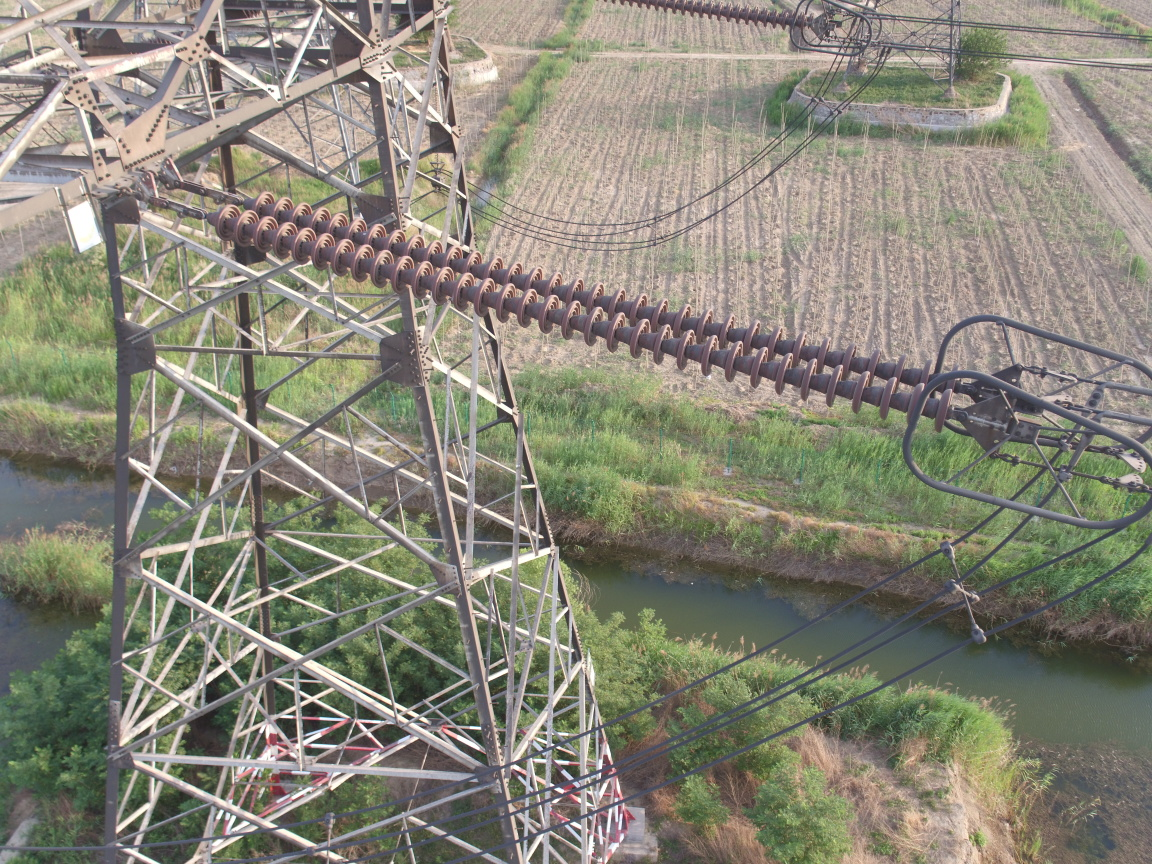insulator: (175, 182, 990, 438)
